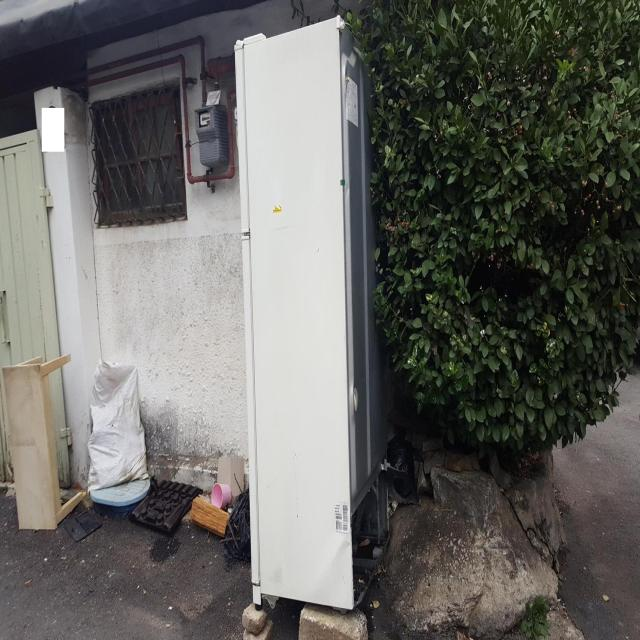refrigerator: (233, 12, 394, 614)
